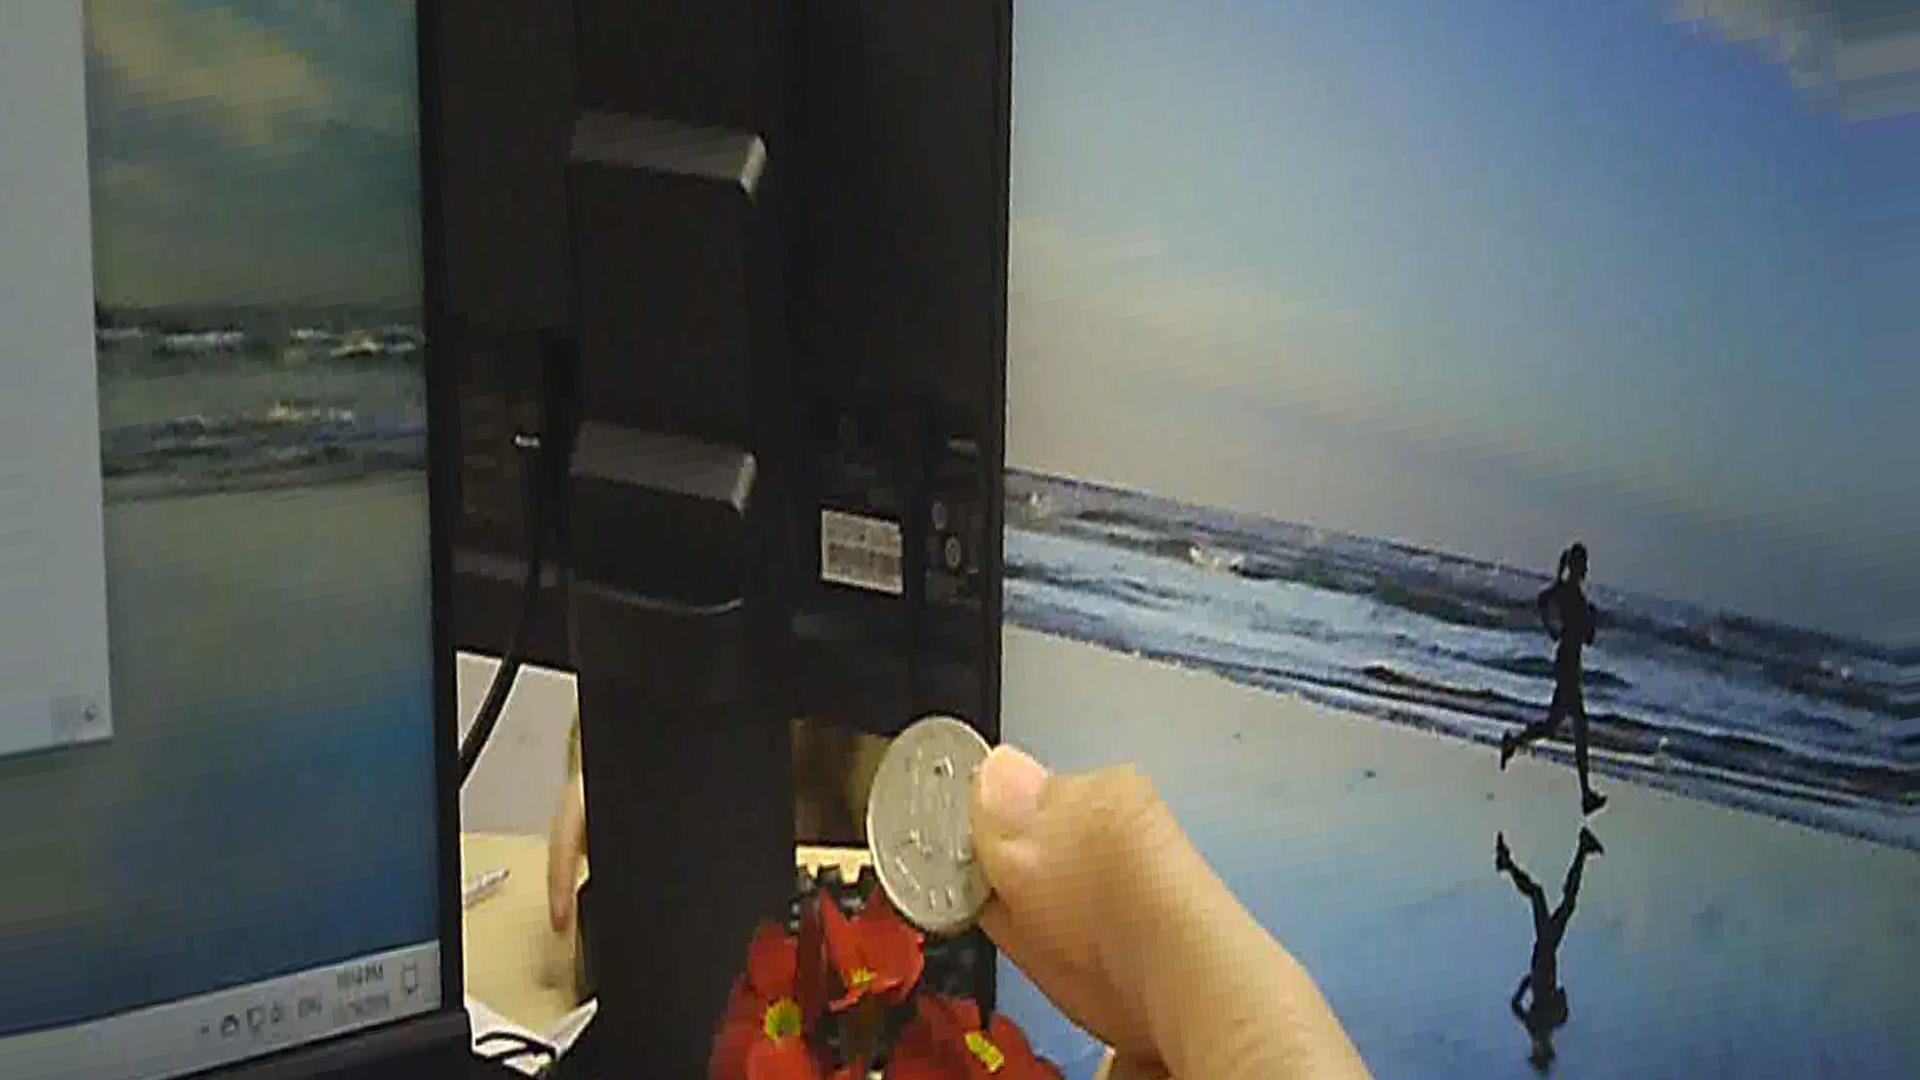100 Yen: (866, 721, 1015, 943)
